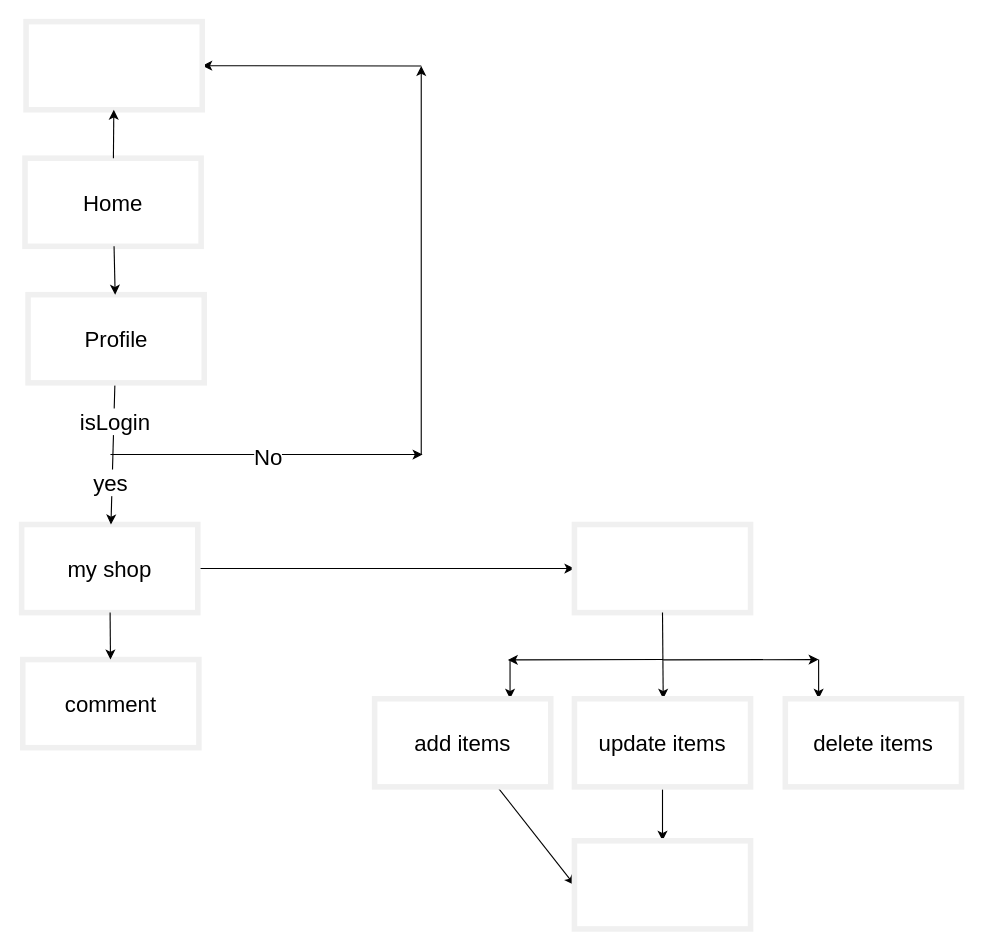
The diagram is 983 pixels wide and 951 high, and some of its shapes have lost their labels. The box of each missing label's shape, as (x1, y1, x2, y2) in pixels:
compare items: (571, 837, 753, 931)
item list: (571, 521, 753, 615)
Login: (23, 18, 204, 112)
